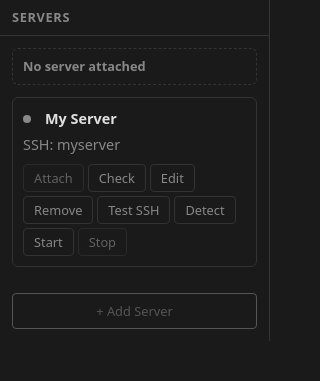
Test case: shows and dismisses per-target error
The image size is (320, 381).
Expected: the element with test id "server-card-ssh-1" is shown, [12, 97, 257, 267]
Click the button with test id "test-ssh-ssh-1": x=134, y=210 [97, 196, 170, 224]
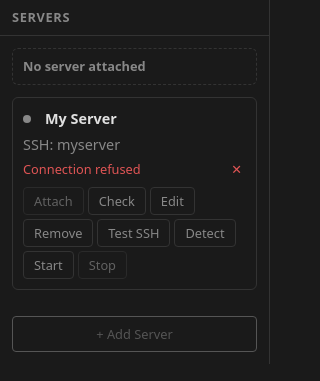
Now the message "Connection refused ✕" is shown, box [23, 160, 246, 179]
Click the button with test id "dismiss-error-ssh-1": x=237, y=169 [227, 160, 246, 178]
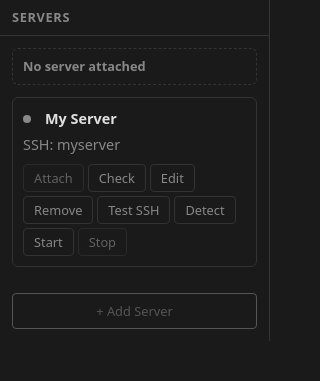
Now the message with test id "error-msg-ssh-1" is gone
